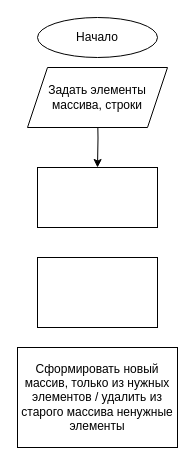
The diagram is 195 pixels wide and 465 high, and some of its shapes have lost their labels. The shapes that lost their labels are listed below. From the top down, each one's box as (x1, y1, x2, y2) in pixels, then its label:
(36, 166, 158, 228): Преобразовать элементы в массив строк
(36, 256, 158, 328): Найти индекс строк в массиве, размерностью более 3х символов
